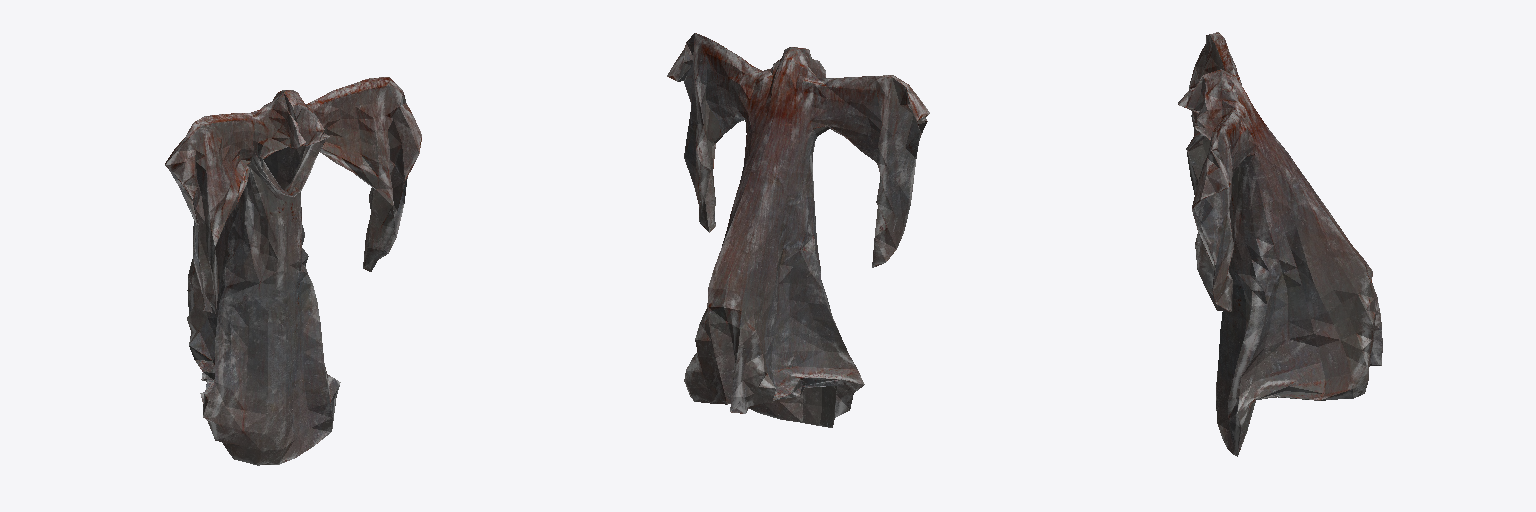
3 views of the same model, side by side, from view 1: azimuth 30°, elevation 25°; view 2: azimuth 150°, elevation 25°; view 3: azimuth 270°, elevation 25° (orthographic).
Visible parts, largest first — view 1: defaultMaterial; view 2: defaultMaterial; view 3: defaultMaterial.
Part boxes in pixels (x1,y1,x2,y2): defaultMaterial: (165, 77, 421, 465); defaultMaterial: (667, 33, 929, 427); defaultMaterial: (1178, 32, 1382, 456).
Size of the model in its own units: 1.43 by 2 by 0.9987.
Materials: 1 (1 with a texture image).